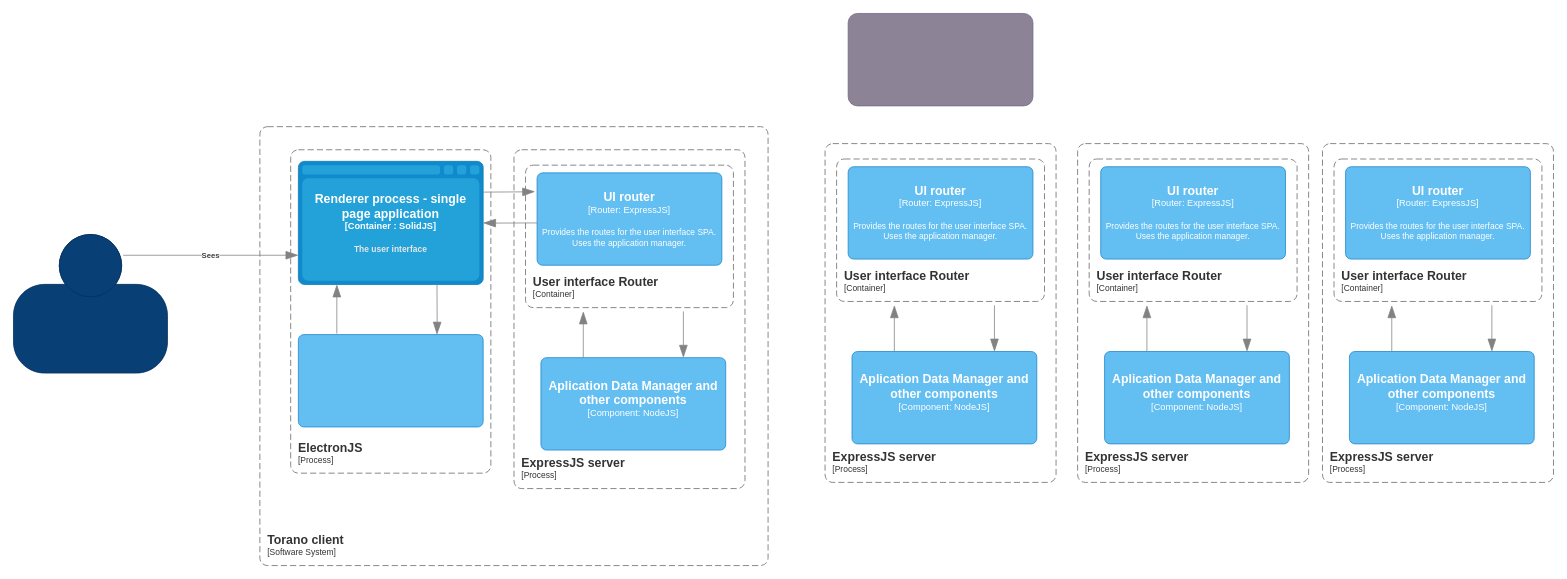
Some shapes in this 1567 by 579 pixel diagram are drawn without their labels. Here are the shapes that lost their labels. From the top down, the centre of each, then its label:
[940,59]: The tracker [Software System]
[90,303]: User [Person]
[390,380]: Other components [Component: ElectronJS]
